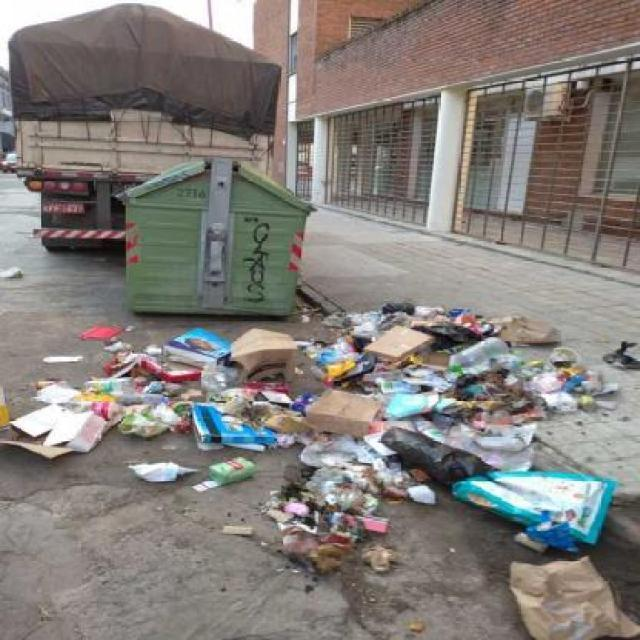garbage: (6, 307, 640, 640), (2, 260, 56, 297)
